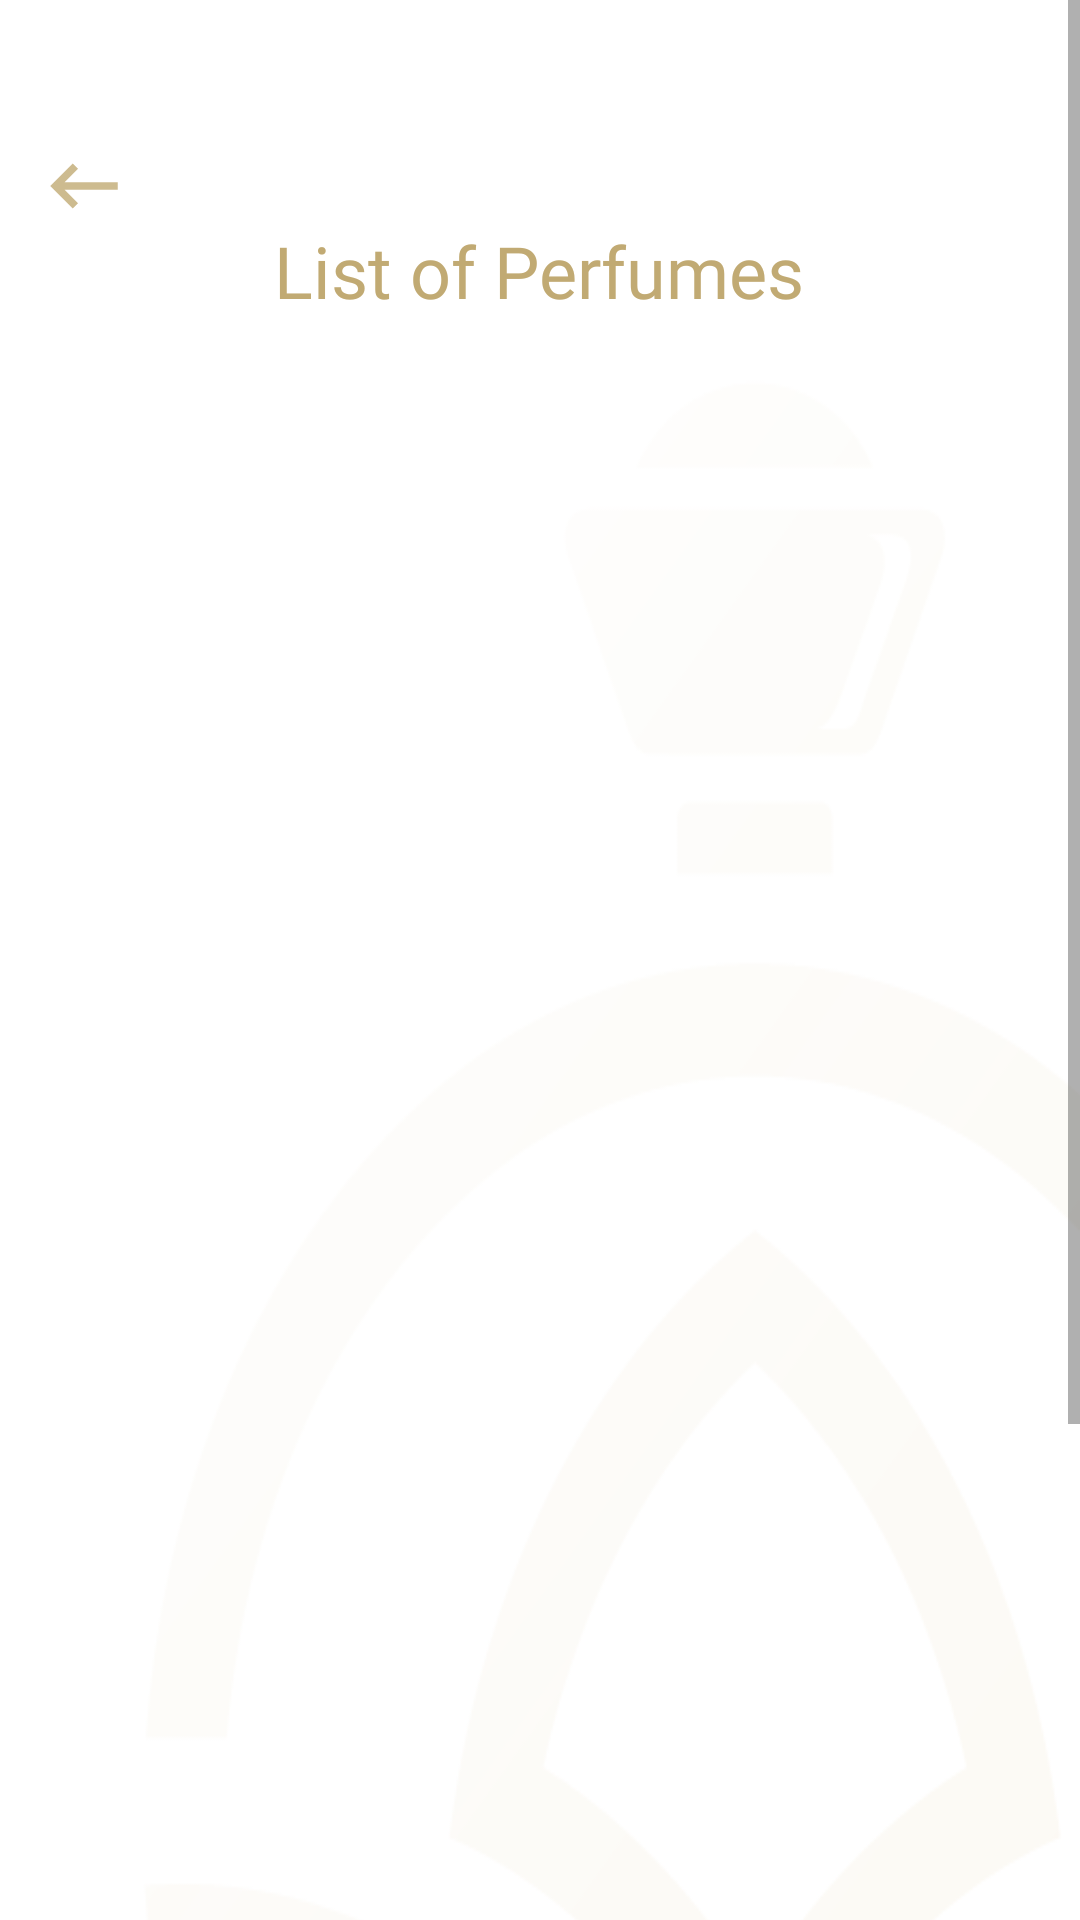

Icons on this 1080×1920 Android screen, each with the point to tap as [x,y]:
back: [84,185]
